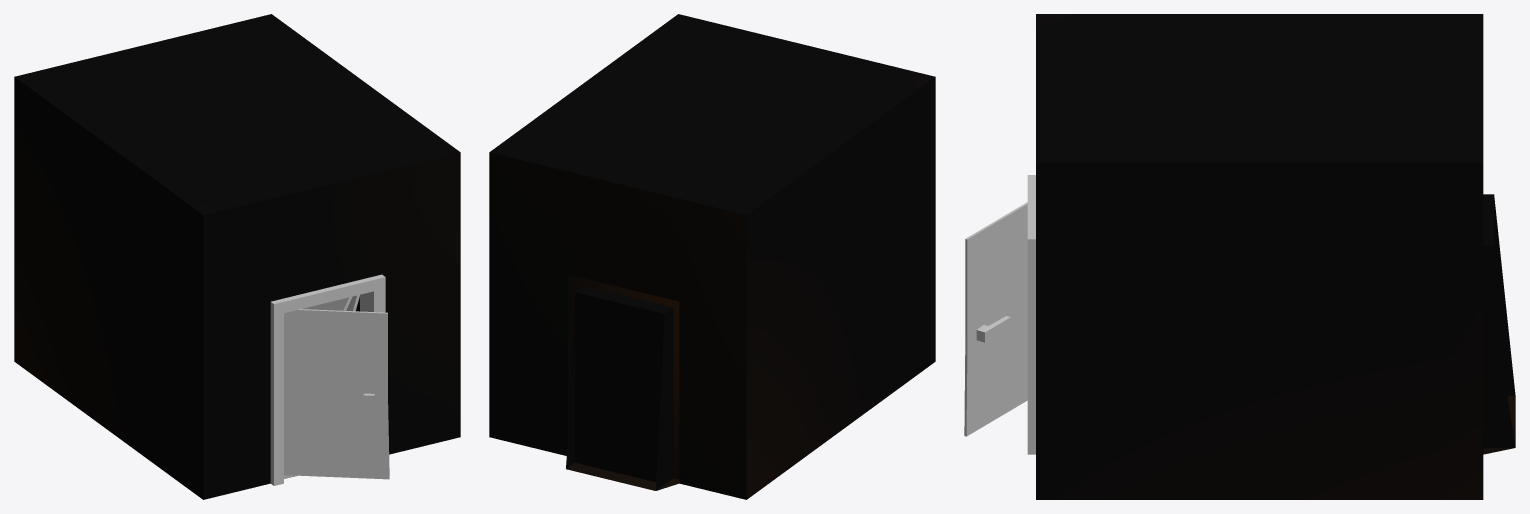
The model's file is house inside.fbx.
The picture shows the model from 3 angles, left to right: view 1: azimuth 30°, elevation 25°; view 2: azimuth 150°, elevation 25°; view 3: azimuth 270°, elevation 25°; orthographic projection. The views are drawn at different scales.
Visible parts, largest first — view 1: pasted__pCube1, pCube3; view 2: pasted__pCube1; view 3: pasted__pCube1, pCube3.
Boxes of the visible parts, left/top/right/bottom form: pasted__pCube1: left=14, top=14, right=460, bottom=499; pCube3: left=284, top=309, right=389, bottom=479; pasted__pCube1: left=489, top=14, right=935, bottom=499; pasted__pCube1: left=1027, top=14, right=1515, bottom=499; pCube3: left=964, top=202, right=1027, bottom=436.
Size of the model in its own units: 17.47 by 18.56 by 27.39.
